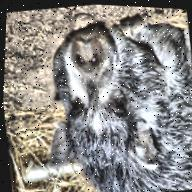boar: (26, 2, 192, 192)
